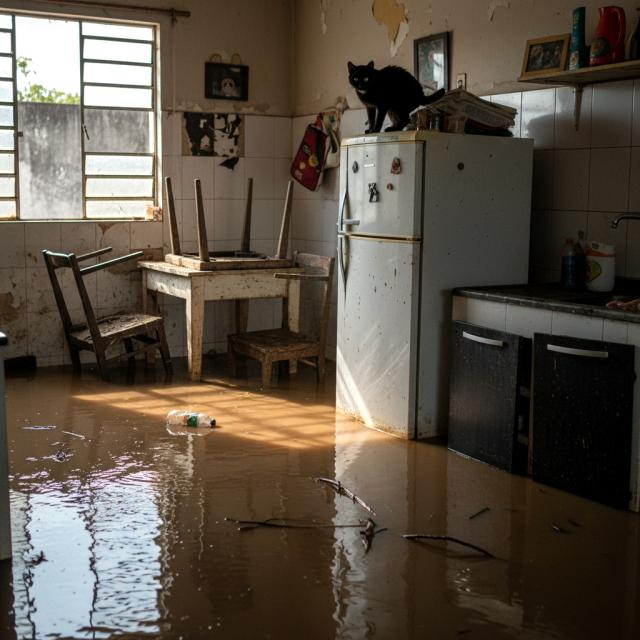cat: (344, 59, 444, 131)
